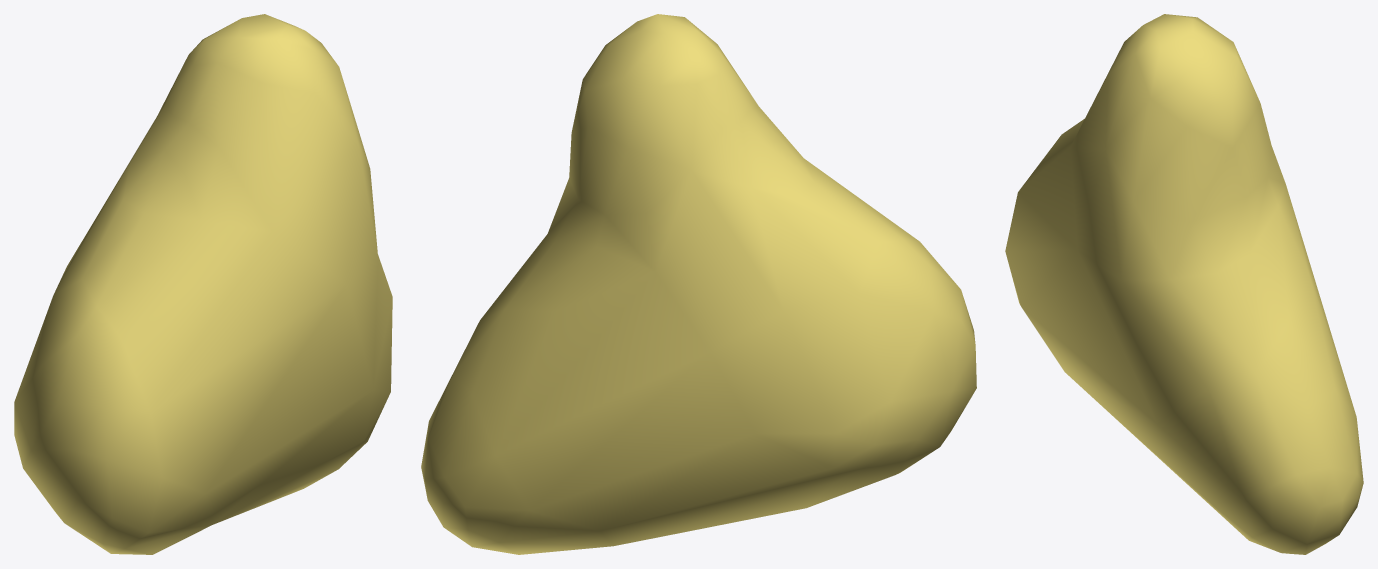
The model's file is ampulla-of-lacrimal-canaliculus-l.glb.
3 renders of one model, left to right at view 1: azimuth 30°, elevation 25°; view 2: azimuth 150°, elevation 25°; view 3: azimuth 270°, elevation 25°, orthographic. The views are drawn at different scales.
Visible parts, largest first — view 1: Ampulla of lacrimal canaliculus.l; view 2: Ampulla of lacrimal canaliculus.l; view 3: Ampulla of lacrimal canaliculus.l.
Boxes of the visible parts, x1,y1,x2,y2 form: Ampulla of lacrimal canaliculus.l: (14, 14, 392, 554); Ampulla of lacrimal canaliculus.l: (421, 14, 976, 554); Ampulla of lacrimal canaliculus.l: (1005, 14, 1363, 554).
Size of the model in its own units: 0.00303 by 0.00339 by 0.0023.
